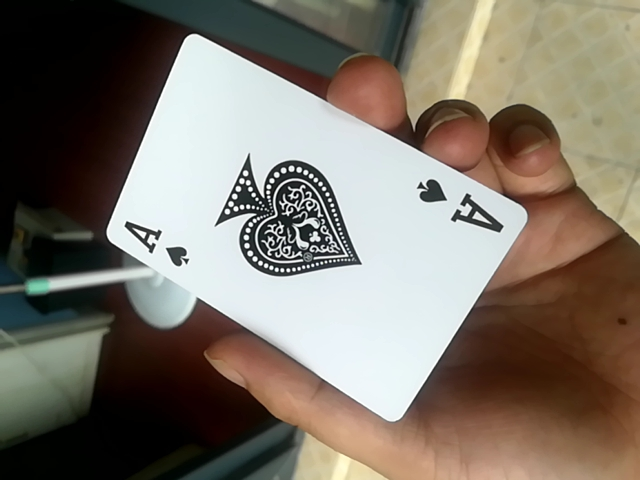ht a: (95, 36, 526, 426)
